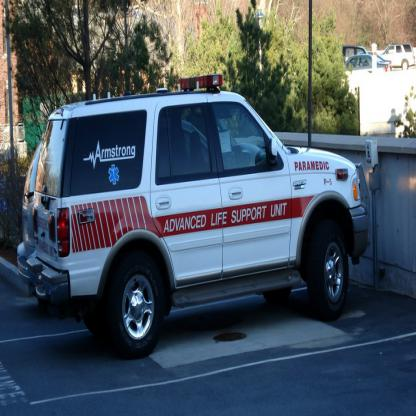Car: (15, 115, 214, 286), (344, 51, 388, 73), (379, 42, 416, 68), (368, 47, 392, 65)
